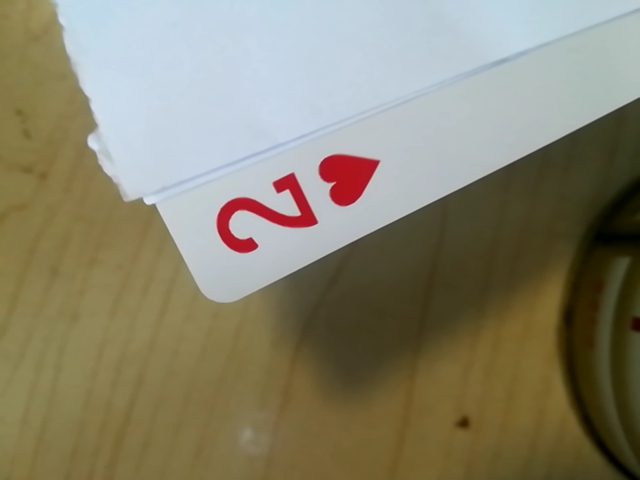hx 2: (195, 152, 378, 260)
